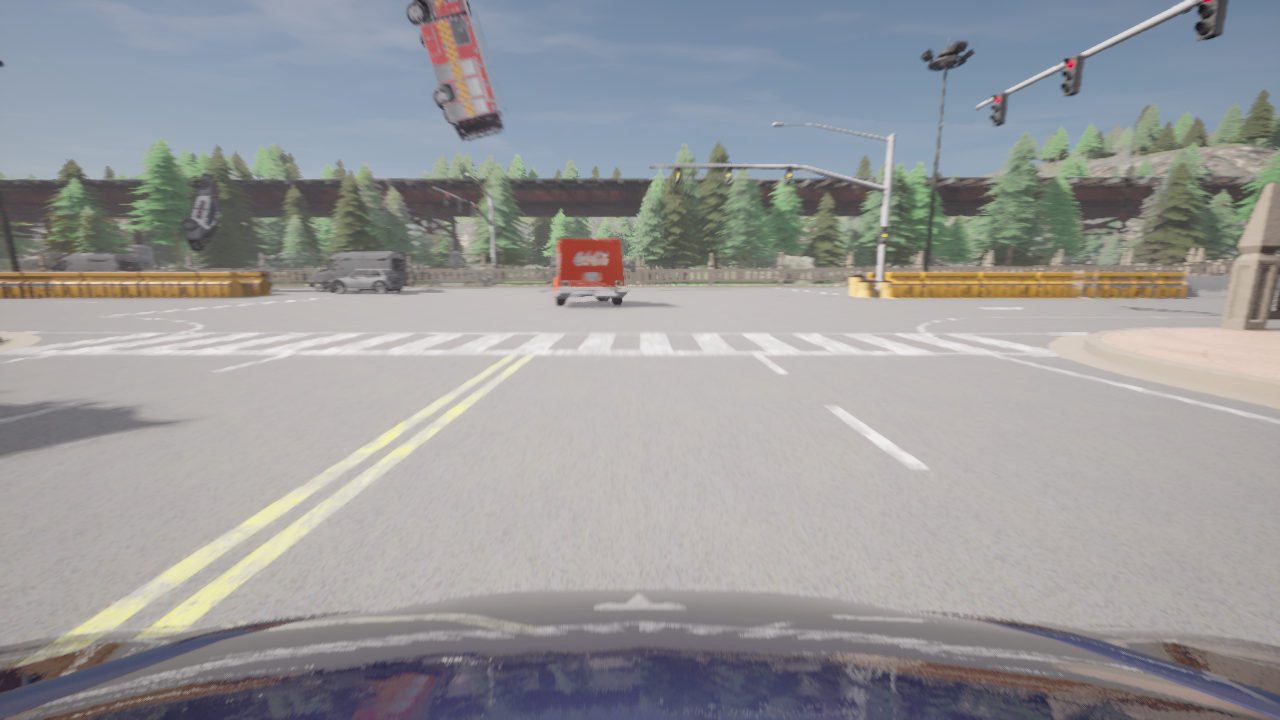cyclist: (0, 588, 1279, 719), (406, 0, 507, 141), (551, 237, 627, 305), (308, 252, 407, 291), (181, 174, 221, 251), (329, 268, 404, 293), (49, 254, 142, 271), (154, 268, 199, 271)
